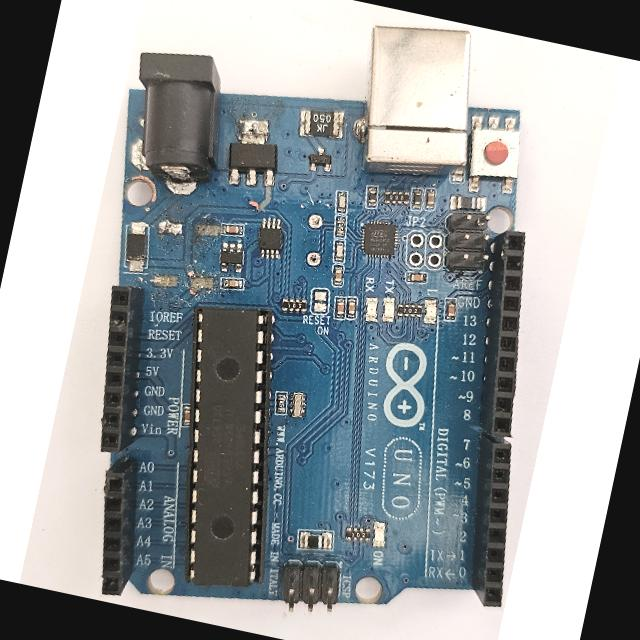missing_capacitors: (147, 205, 225, 302)
missing_crystal_os: (296, 191, 328, 284)
